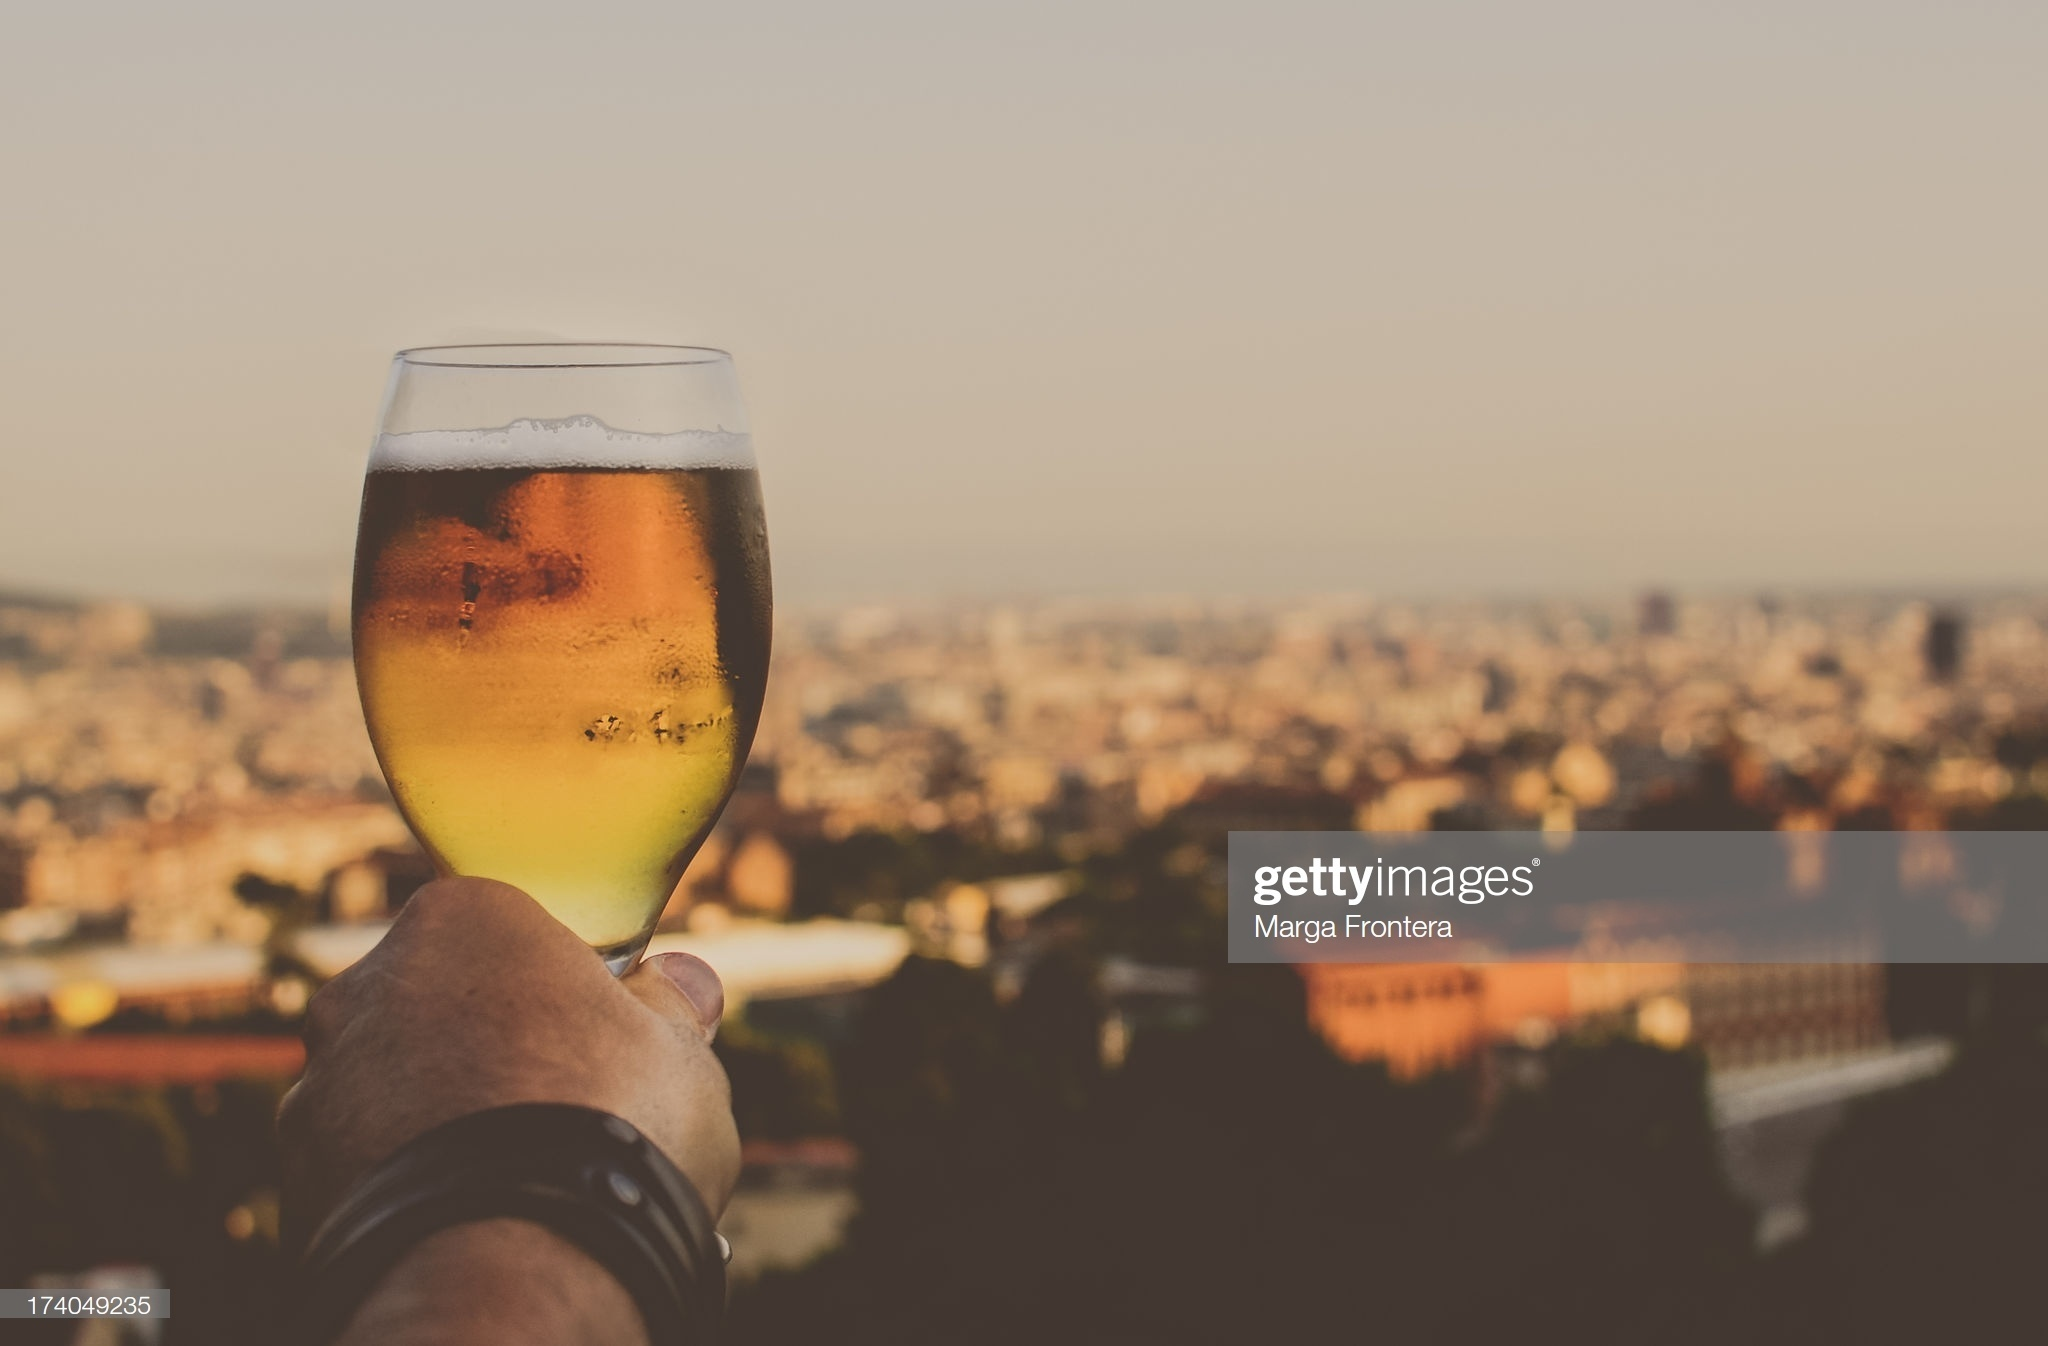whiskey: (348, 340, 763, 982)
